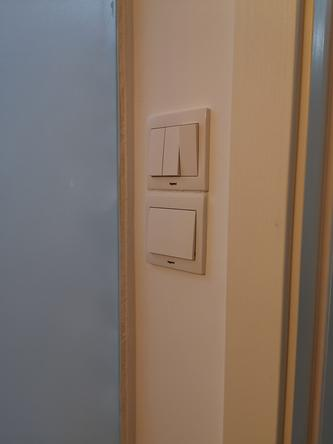switch: (138, 205, 198, 265), (183, 126, 200, 178), (163, 123, 177, 177), (145, 128, 159, 172)
